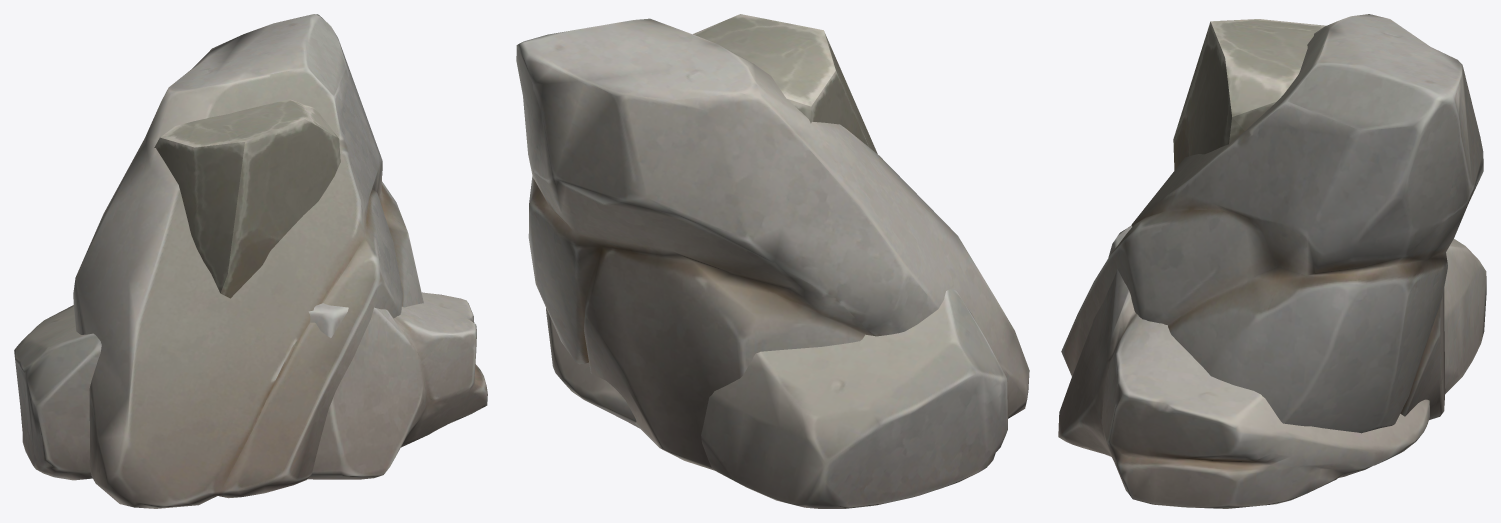
File: rocks.glb
3 renders of one model, left to right at view 1: azimuth 30°, elevation 25°; view 2: azimuth 150°, elevation 25°; view 3: azimuth 270°, elevation 25°, orthographic. The views are drawn at different scales.
Parts seen in each view (by area): view 1: SM_Rocks_04 (1), SM_Rocks_03 (1), SM_Rocks_09 (1); view 2: SM_Rocks_04 (1), SM_Rocks_03 (1), SM_Rocks_09 (1); view 3: SM_Rocks_04 (1), SM_Rocks_03 (1), SM_Rocks_09 (1).
Boxes of the visible parts, x1=… form: SM_Rocks_04 (1): x1=73, y1=14, x2=423, y2=508; SM_Rocks_03 (1): x1=14, y1=292, x2=487, y2=480; SM_Rocks_09 (1): x1=154, y1=99, x2=340, y2=298; SM_Rocks_04 (1): x1=516, y1=18, x2=1029, y2=470; SM_Rocks_03 (1): x1=546, y1=289, x2=1007, y2=508; SM_Rocks_09 (1): x1=693, y1=14, x2=877, y2=153; SM_Rocks_04 (1): x1=1061, y1=14, x2=1483, y2=433; SM_Rocks_03 (1): x1=1058, y1=225, x2=1486, y2=508; SM_Rocks_09 (1): x1=1173, y1=19, x2=1325, y2=170.
Bounding box in the file's own units: 2.18 × 1.7 × 1.61.
Materials: 1 (1 with a texture image).
